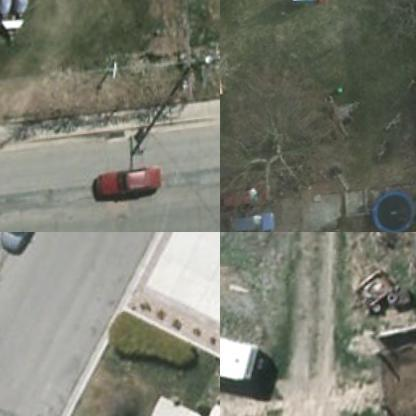boat: (7, 0, 31, 20), (0, 0, 14, 21)
camping car: (220, 312, 268, 394)
car: (84, 168, 160, 206), (0, 232, 51, 264), (220, 185, 267, 214), (225, 215, 278, 231)
